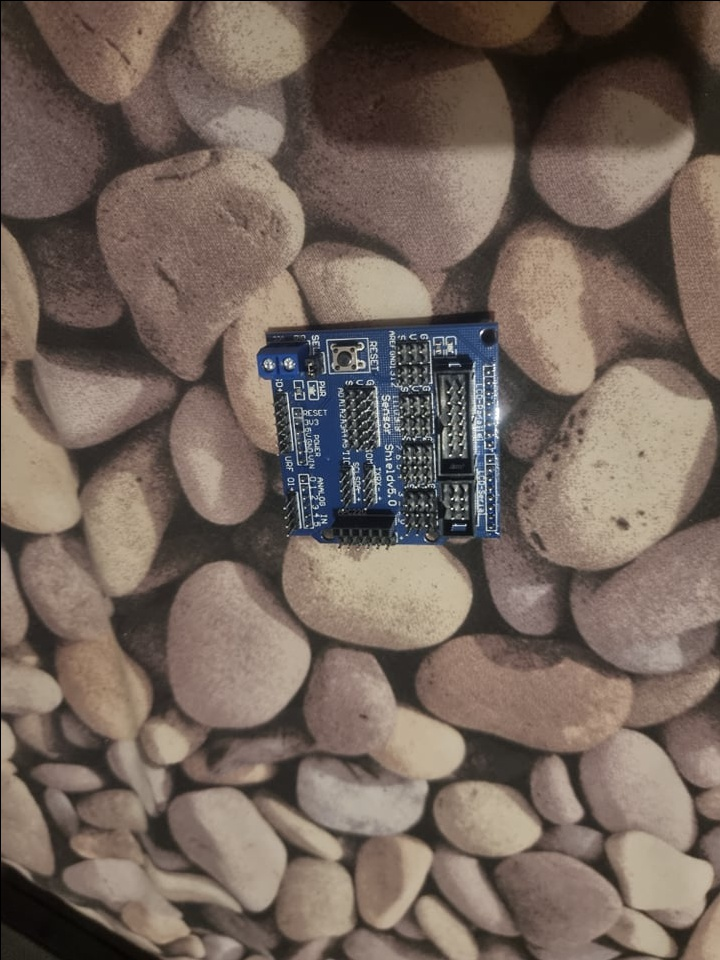5V EXPANSION: (253, 320, 500, 545)
